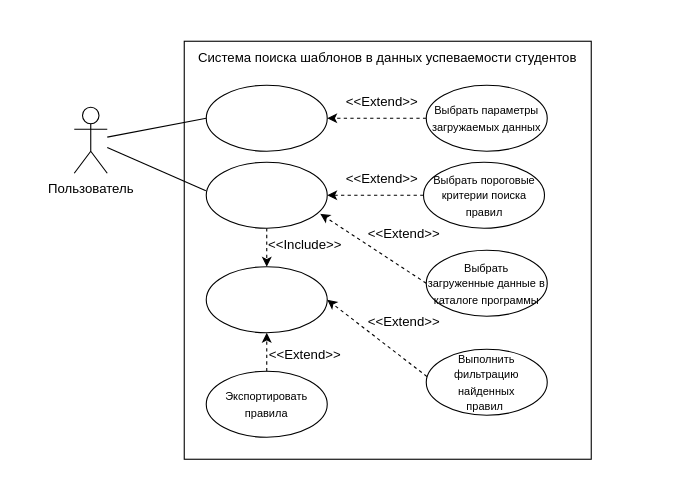
Some shapes in this 675 by 499 pixel diagram are drawn without their labels. The shapes that lost their labels are listed below. From the top down, each one's box as (x1, y1, x2, y2) in pixels, then its label:
(205, 84, 327, 151): Загрузить данные в каталог программы
(205, 161, 327, 228): Выполнить поиск ассоциативных правил
(205, 266, 327, 333): Просмотр списка ассоциативных правил
